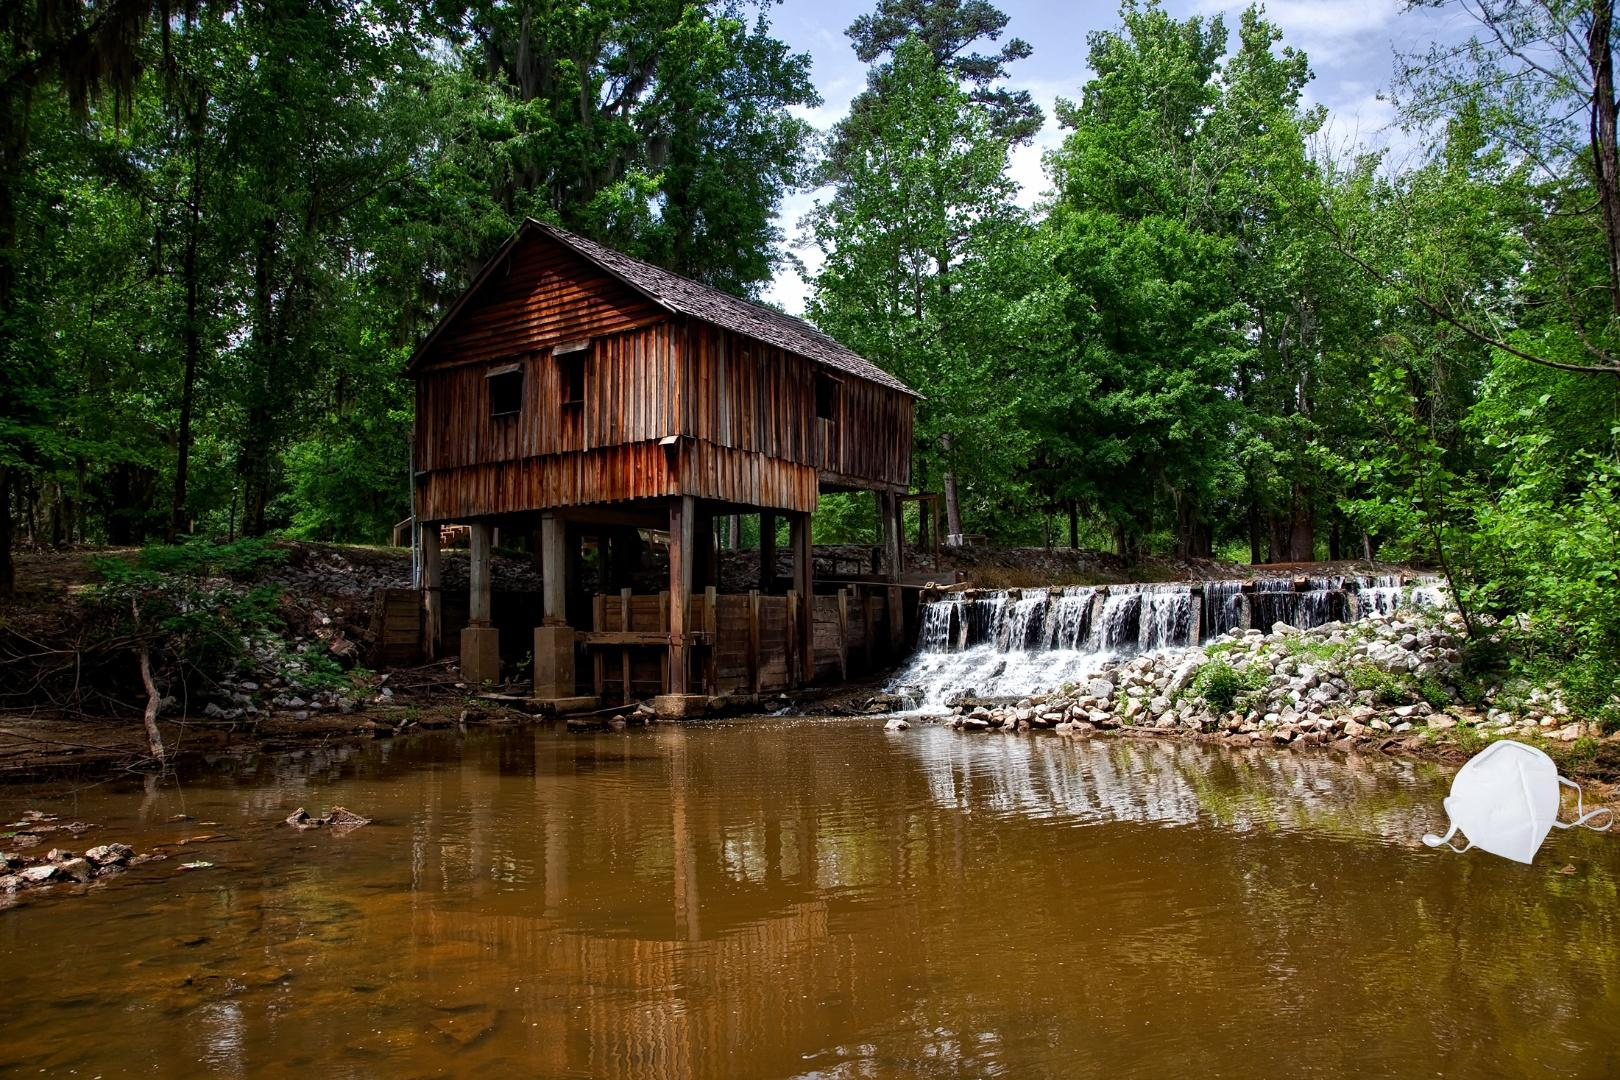trash: (1419, 736, 1616, 867)
